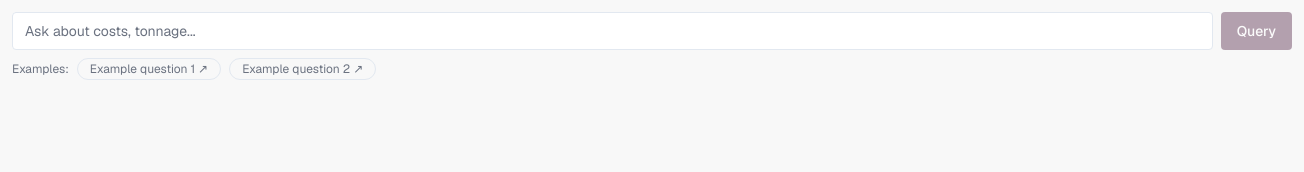
Scenario: QueryPanel › shows specific invalidQuestion message when API returns the full i18n key error
Type "?" into the field with placeholder "Ask about costs, tonnage..." at (612, 31), box [12,12,1213,50]
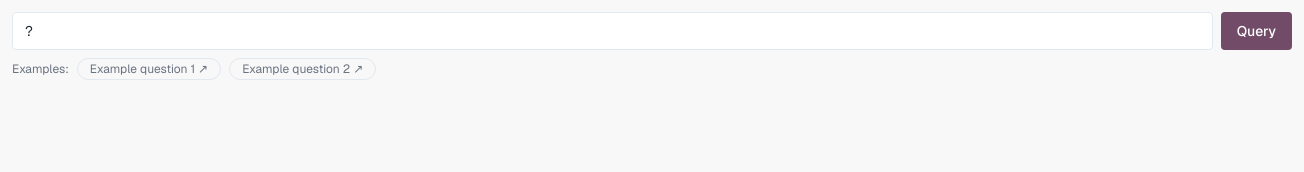
Click the button "Query" at (1256, 31), box [1221,12,1292,50]
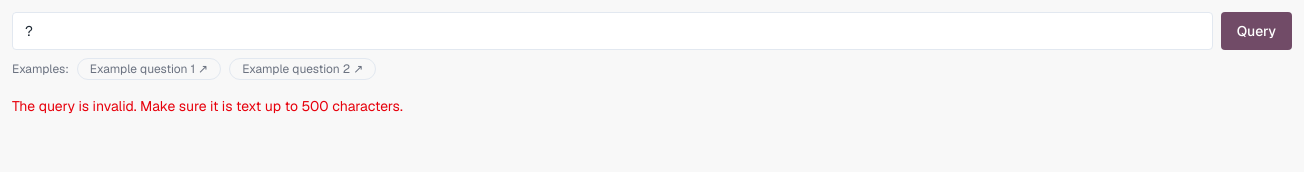
Expected: the message reads "The query is invalid. Make sure it is text up to 500 characters.", [12,97,403,115]
